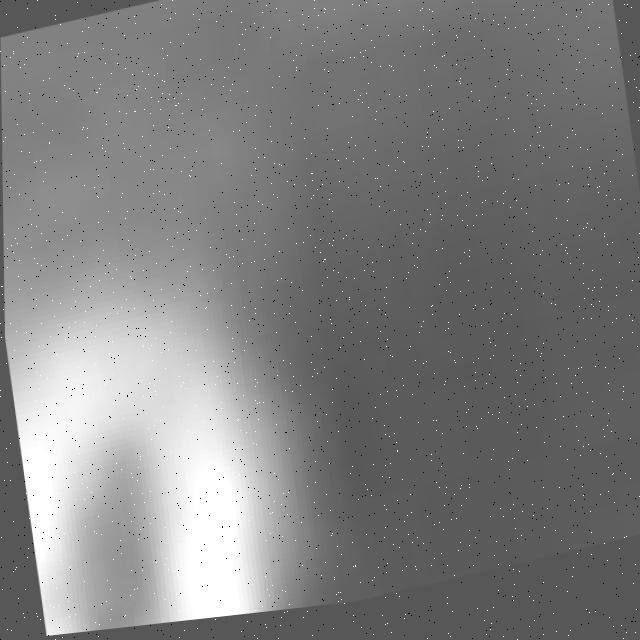person: (3, 136, 301, 640)
